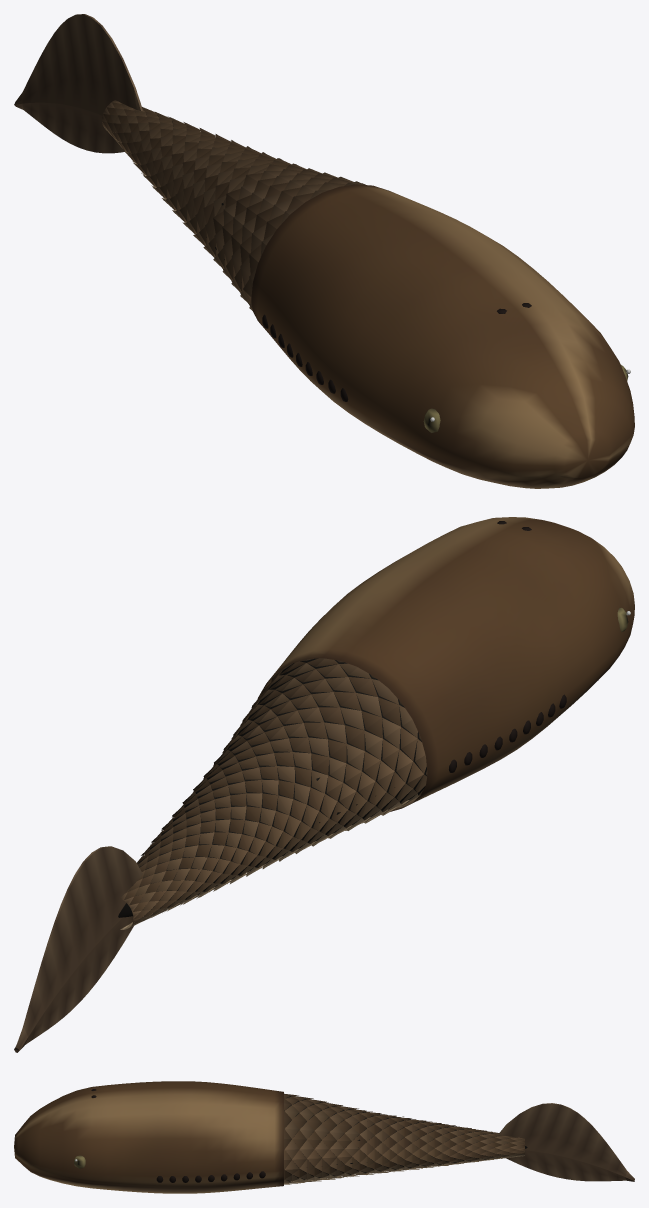
Rendered from EriptychiusAmericanus.fbx.
The picture shows the model from 3 angles, top to bottom: view 1: azimuth 30°, elevation 25°; view 2: azimuth 150°, elevation 25°; view 3: azimuth 270°, elevation 25°; orthographic projection. The views are drawn at different scales.
Parts seen in each view (by area): view 1: EriptychiusAmericanus; view 2: EriptychiusAmericanus; view 3: EriptychiusAmericanus.
Part boxes in pixels (x1=…): EriptychiusAmericanus: x1=14, y1=14, x2=634, y2=488; EriptychiusAmericanus: x1=14, y1=517, x2=634, y2=1052; EriptychiusAmericanus: x1=14, y1=1081, x2=634, y2=1193.
Size of the model in its own units: 0.386 by 0.2897 by 1.7.
